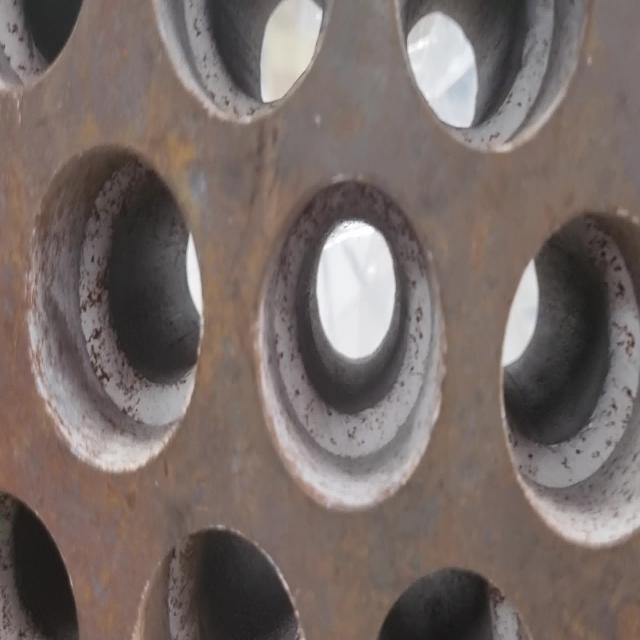Hole: (253, 174, 446, 512), (27, 142, 205, 474), (498, 207, 638, 549), (392, 0, 591, 156), (150, 1, 337, 125), (125, 523, 313, 639)
